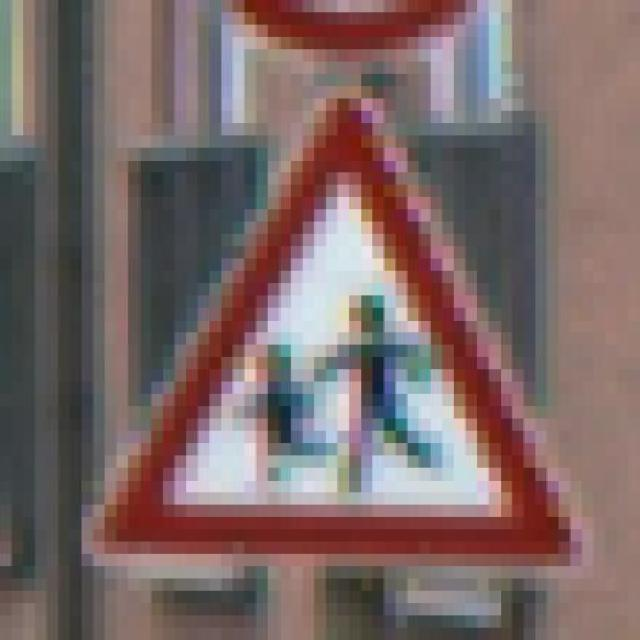Beware of children: (81, 86, 582, 579)
